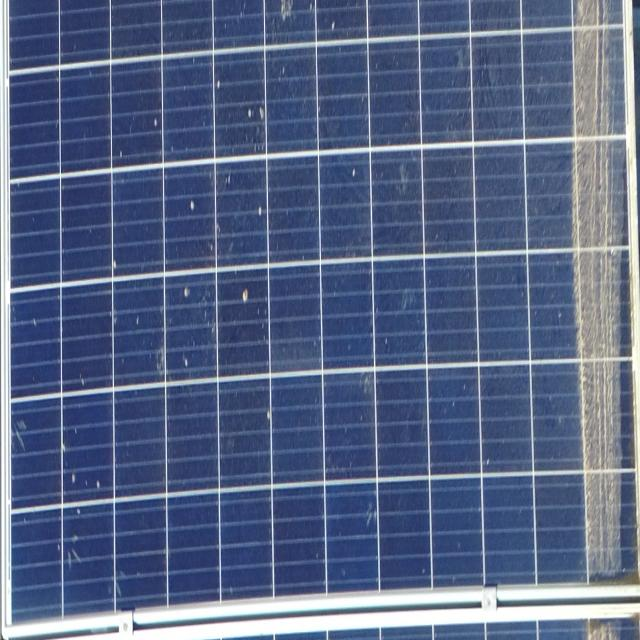Dust: (560, 3, 634, 615)
bird-droppings: (204, 284, 220, 334), (66, 531, 82, 569), (12, 421, 28, 456), (363, 496, 376, 528), (277, 0, 295, 22), (240, 282, 252, 314), (208, 219, 220, 251), (358, 375, 373, 397), (180, 348, 192, 374), (28, 315, 42, 335), (110, 256, 122, 278), (182, 284, 196, 302), (132, 314, 143, 336), (222, 168, 232, 190), (57, 360, 64, 390), (257, 98, 265, 124), (152, 112, 162, 132), (78, 373, 88, 393), (327, 18, 338, 34), (56, 447, 68, 461), (350, 162, 358, 182), (246, 104, 254, 122), (189, 198, 197, 214), (258, 202, 264, 222), (72, 470, 78, 488), (266, 407, 272, 425), (95, 474, 101, 490), (54, 542, 63, 552), (216, 80, 222, 92), (76, 507, 82, 518)
